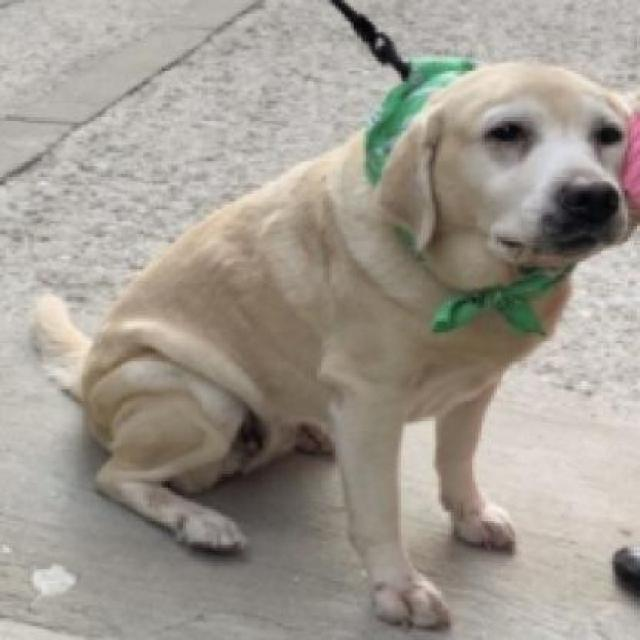Dog: (27, 57, 638, 635)
